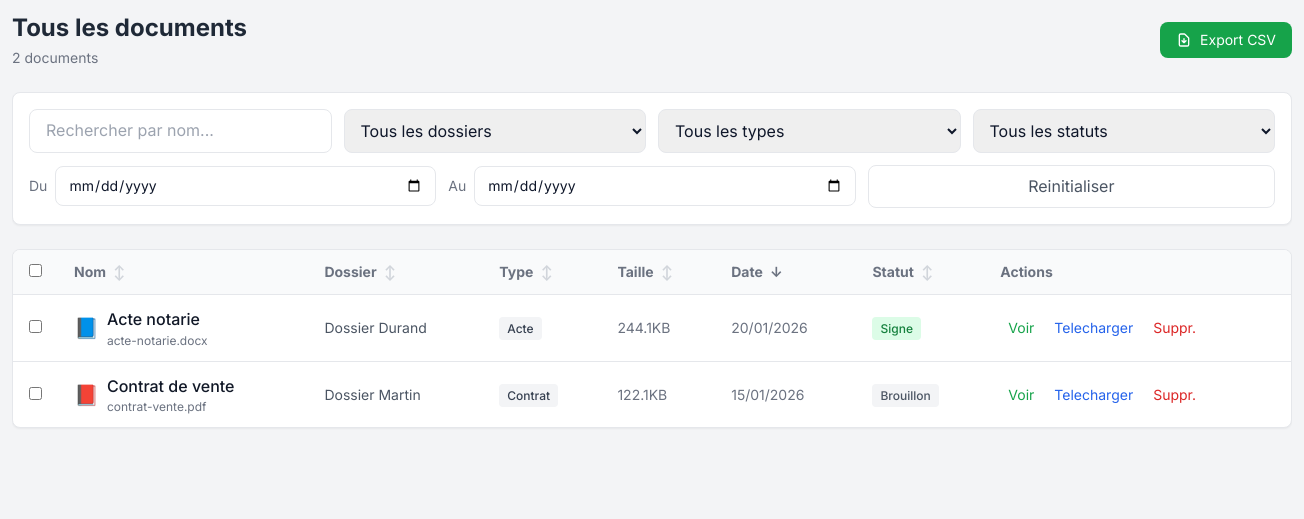
DocumentsGlobal Page › shows bulk action bar when items selected
Click select-all checkbox
Click the checkbox next to "Nom". click: click(36, 271)
box: [29,264,42,277]
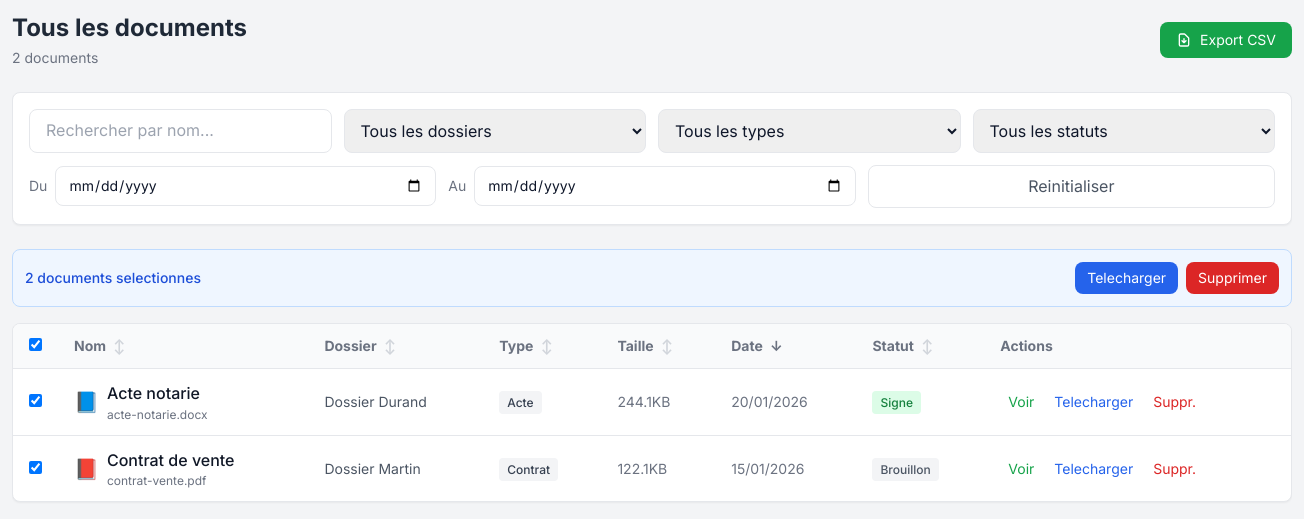
Expected: the text "2 documents selectionnes" is shown, [25,268,201,288]
